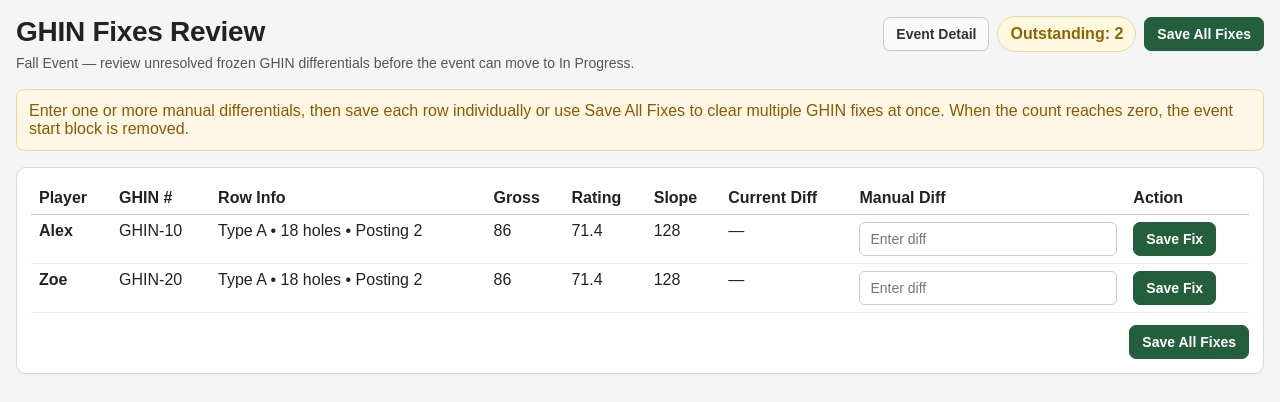
it: Trip GHIN fixes page characterization (before extraction) › saves a single normalized differential and removes its outstanding row
Expected: the heading "GHIN Fixes Review" is shown, [16,16,265,47]
Expected: the text "Alex" is shown, [39,222,73,239]
In the field with placeholder "Enter diff" in the row of "Alex": (988, 239) [859,222,1117,256], type " 13.25 "
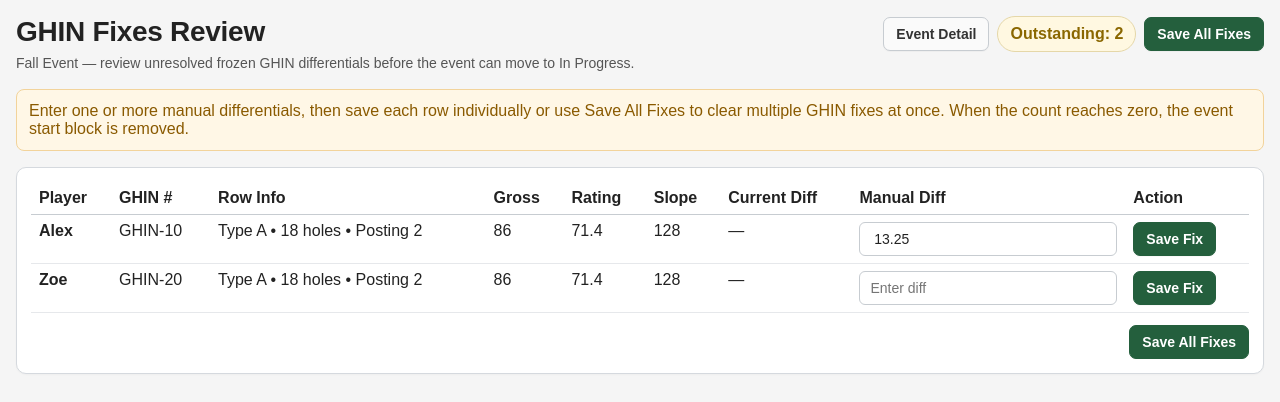
Click the button "Save Fix" in the row of "Alex": (1175, 239) [1133,222,1216,256]
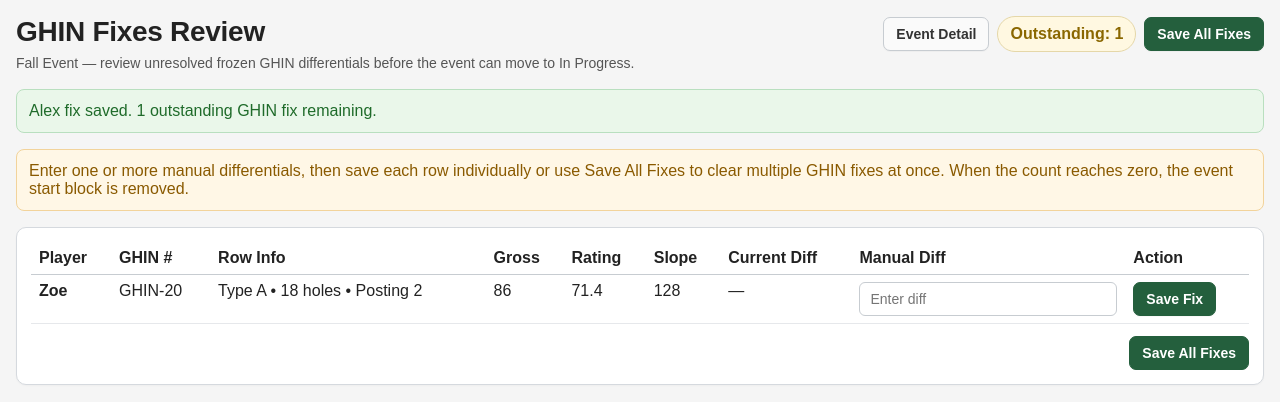
Result: the text "Outstanding: 1" is shown at [998,16,1136,52]
Result: the text "Alex fix saved. 1 outstanding GHIN fix remaining." is shown at [16,89,1264,133]
